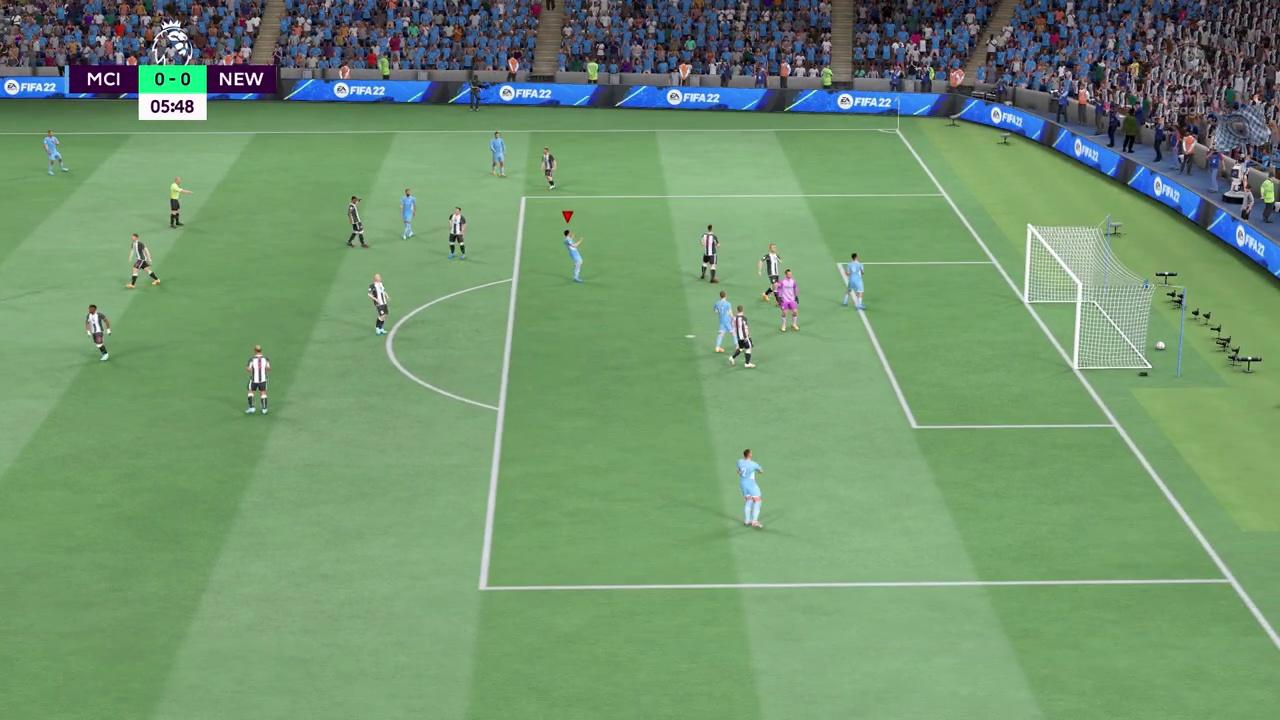scoreboard: (62, 65, 283, 92)
timestamp: (136, 92, 210, 124)
